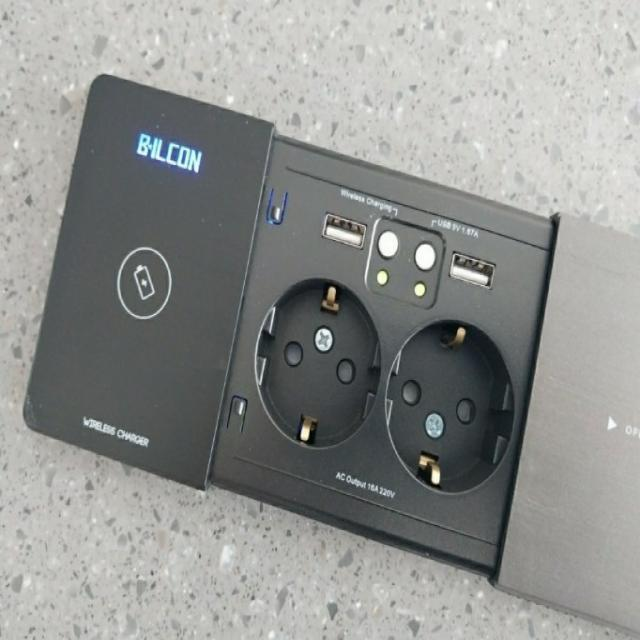typeb: (244, 116, 573, 606)
